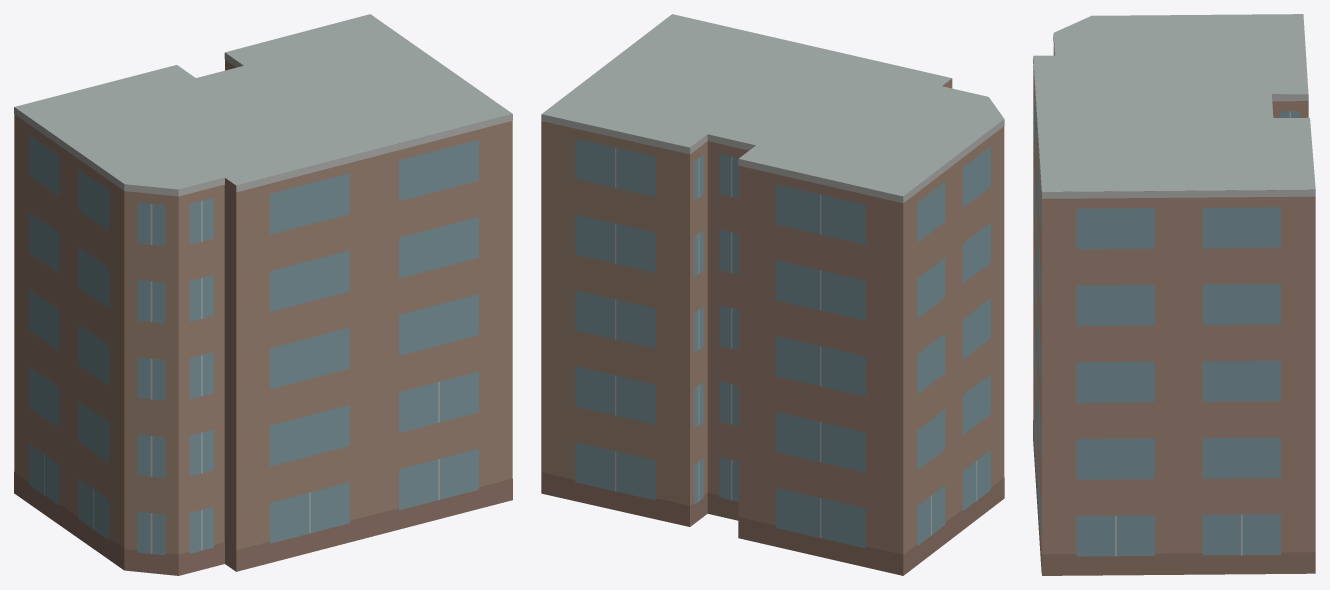
Rendered from survey-upis-32732769.glb.
3 views of the same model, side by side, from view 1: azimuth 30°, elevation 25°; view 2: azimuth 150°, elevation 25°; view 3: azimuth 270°, elevation 25° (orthographic).
Visible parts, largest first — view 1: survey-upis-32732769.tmp; view 2: survey-upis-32732769.tmp; view 3: survey-upis-32732769.tmp.
Boxes of the visible parts, bbox=[...] form: survey-upis-32732769.tmp: bbox=[14, 14, 512, 575]; survey-upis-32732769.tmp: bbox=[541, 14, 1004, 575]; survey-upis-32732769.tmp: bbox=[1033, 14, 1315, 575].
Bounding box in the file's own units: 13.53 × 13.6 × 9.08.
